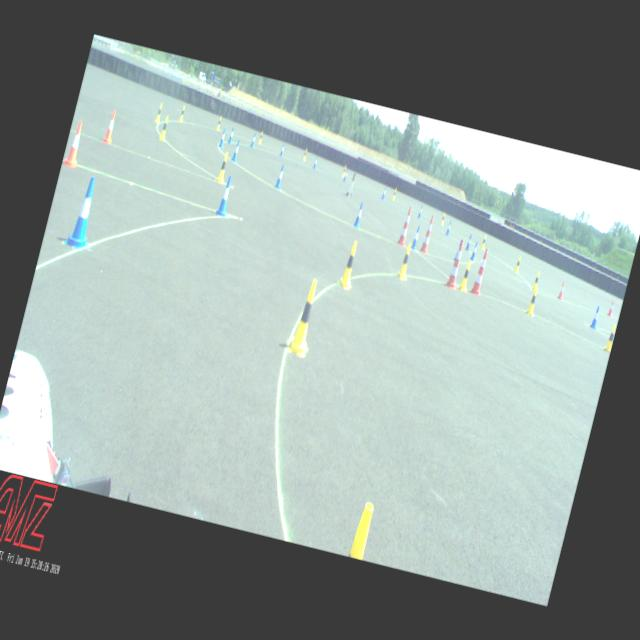blue_cone: (63, 173, 102, 250), (214, 174, 234, 218), (352, 201, 364, 227), (274, 164, 286, 189), (410, 224, 421, 249), (230, 139, 242, 161), (589, 306, 601, 328), (453, 237, 463, 260), (218, 128, 227, 148), (470, 241, 478, 259), (227, 126, 235, 142), (465, 233, 472, 249), (250, 132, 256, 147), (280, 142, 286, 156), (445, 220, 451, 234), (312, 156, 318, 168), (381, 186, 386, 199), (417, 205, 422, 218), (343, 169, 348, 181)
large_orange_cone: (468, 246, 492, 296), (444, 238, 468, 288), (418, 214, 437, 254), (396, 205, 414, 246)
orange_cone: (63, 119, 87, 168), (102, 109, 118, 144), (556, 281, 566, 299), (606, 300, 614, 316)
yellow_cone: (287, 277, 324, 357), (348, 500, 376, 560), (338, 240, 360, 288), (397, 242, 413, 278), (215, 151, 229, 183), (458, 260, 472, 291), (525, 286, 539, 316), (603, 324, 616, 352), (158, 114, 170, 140), (154, 103, 164, 123), (531, 270, 540, 290), (178, 105, 186, 122), (514, 256, 522, 272), (215, 116, 222, 130), (480, 234, 487, 248), (258, 130, 264, 143), (391, 187, 397, 200), (302, 148, 308, 160), (440, 212, 446, 224), (342, 164, 346, 177)
